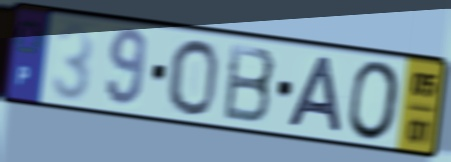3: (50, 19, 97, 103)
9: (103, 25, 149, 112)
A: (283, 54, 346, 137)
B: (220, 41, 279, 127)
O: (346, 58, 403, 144), (166, 36, 220, 119)
